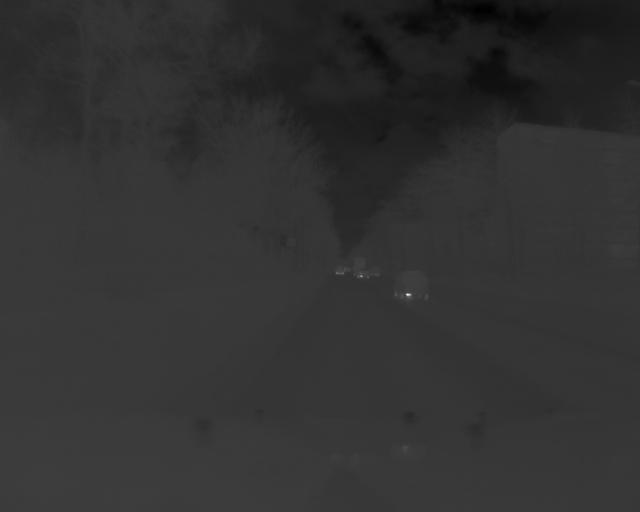car: (393, 266, 432, 307), (351, 255, 367, 281)
